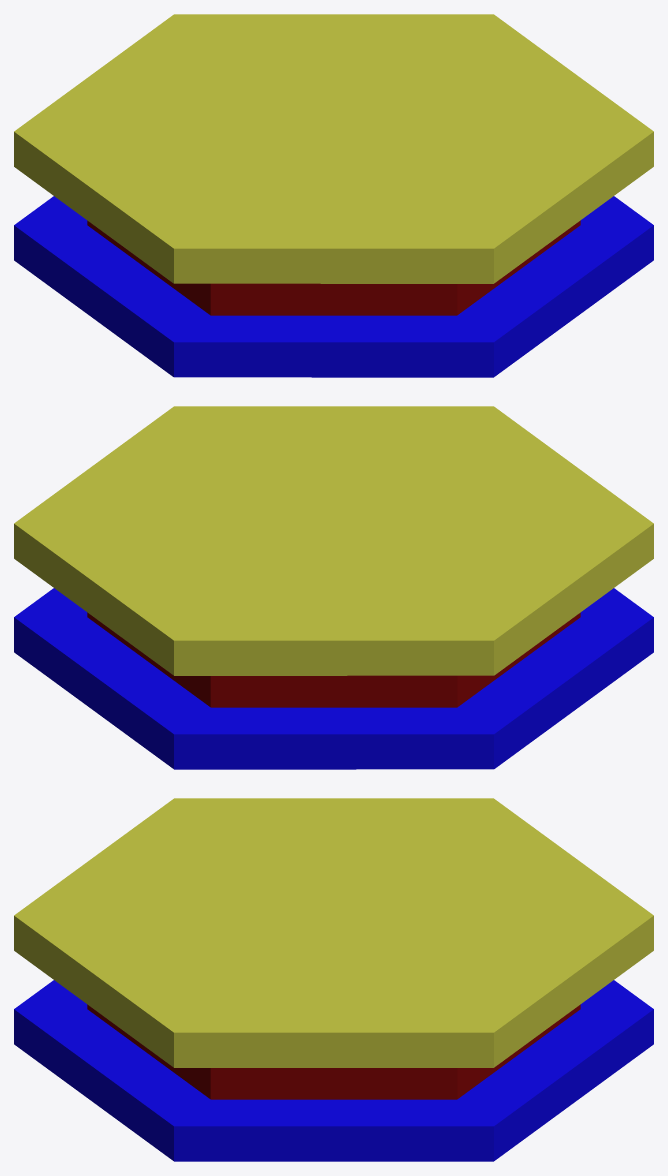
The model's file is red-game-piece.glb.
3 renders of one model, top to bottom at view 1: azimuth 30°, elevation 25°; view 2: azimuth 150°, elevation 25°; view 3: azimuth 270°, elevation 25°, orthographic.
Visible parts, largest first — view 1: Circle.001, Circle, Circle.002; view 2: Circle.001, Circle, Circle.002; view 3: Circle.001, Circle, Circle.002.
Boxes of the visible parts, x1,y1,x2,y2 form: Circle.001: (14, 14, 653, 283); Circle: (14, 196, 653, 377); Circle.002: (87, 220, 580, 315); Circle.001: (14, 406, 653, 675); Circle: (14, 588, 653, 769); Circle.002: (87, 612, 580, 707); Circle.001: (14, 798, 653, 1067); Circle: (14, 980, 653, 1161); Circle.002: (87, 1004, 580, 1099).
Size of the model in its own units: 1.73 by 0.4441 by 2.
